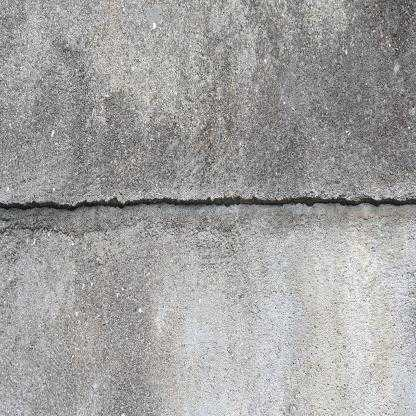crack: (0, 196, 415, 211)
